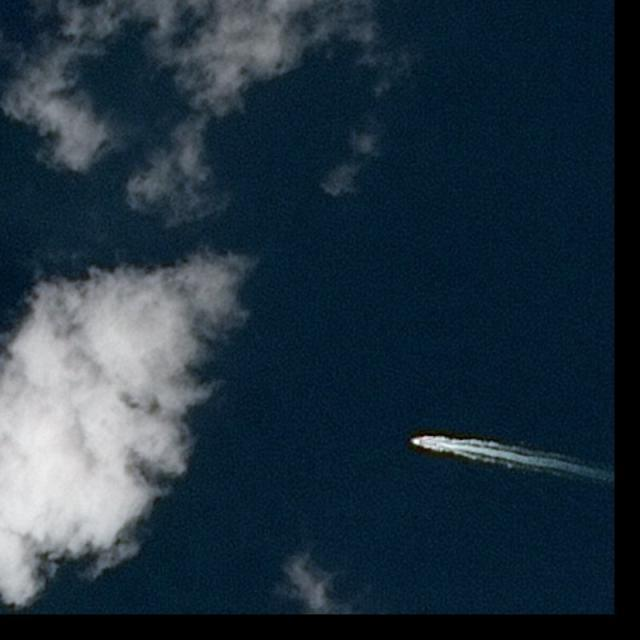ship: (410, 438, 421, 446)
